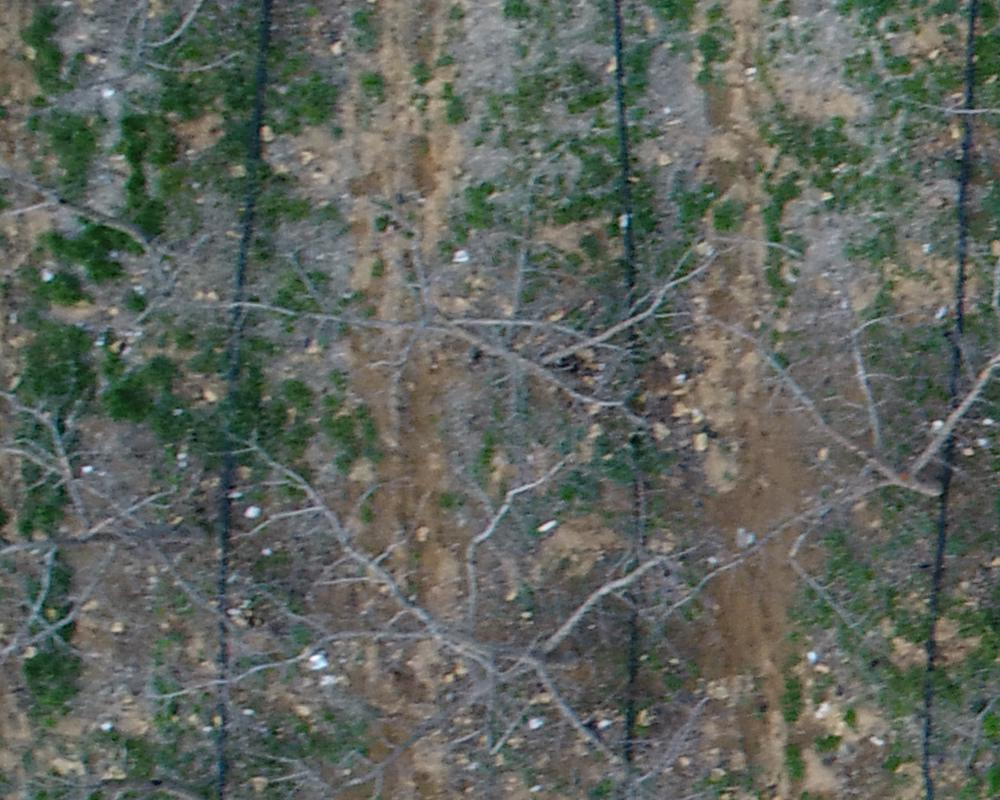apple: (197, 413, 705, 790), (201, 156, 744, 475), (669, 221, 990, 589), (10, 368, 258, 695)
